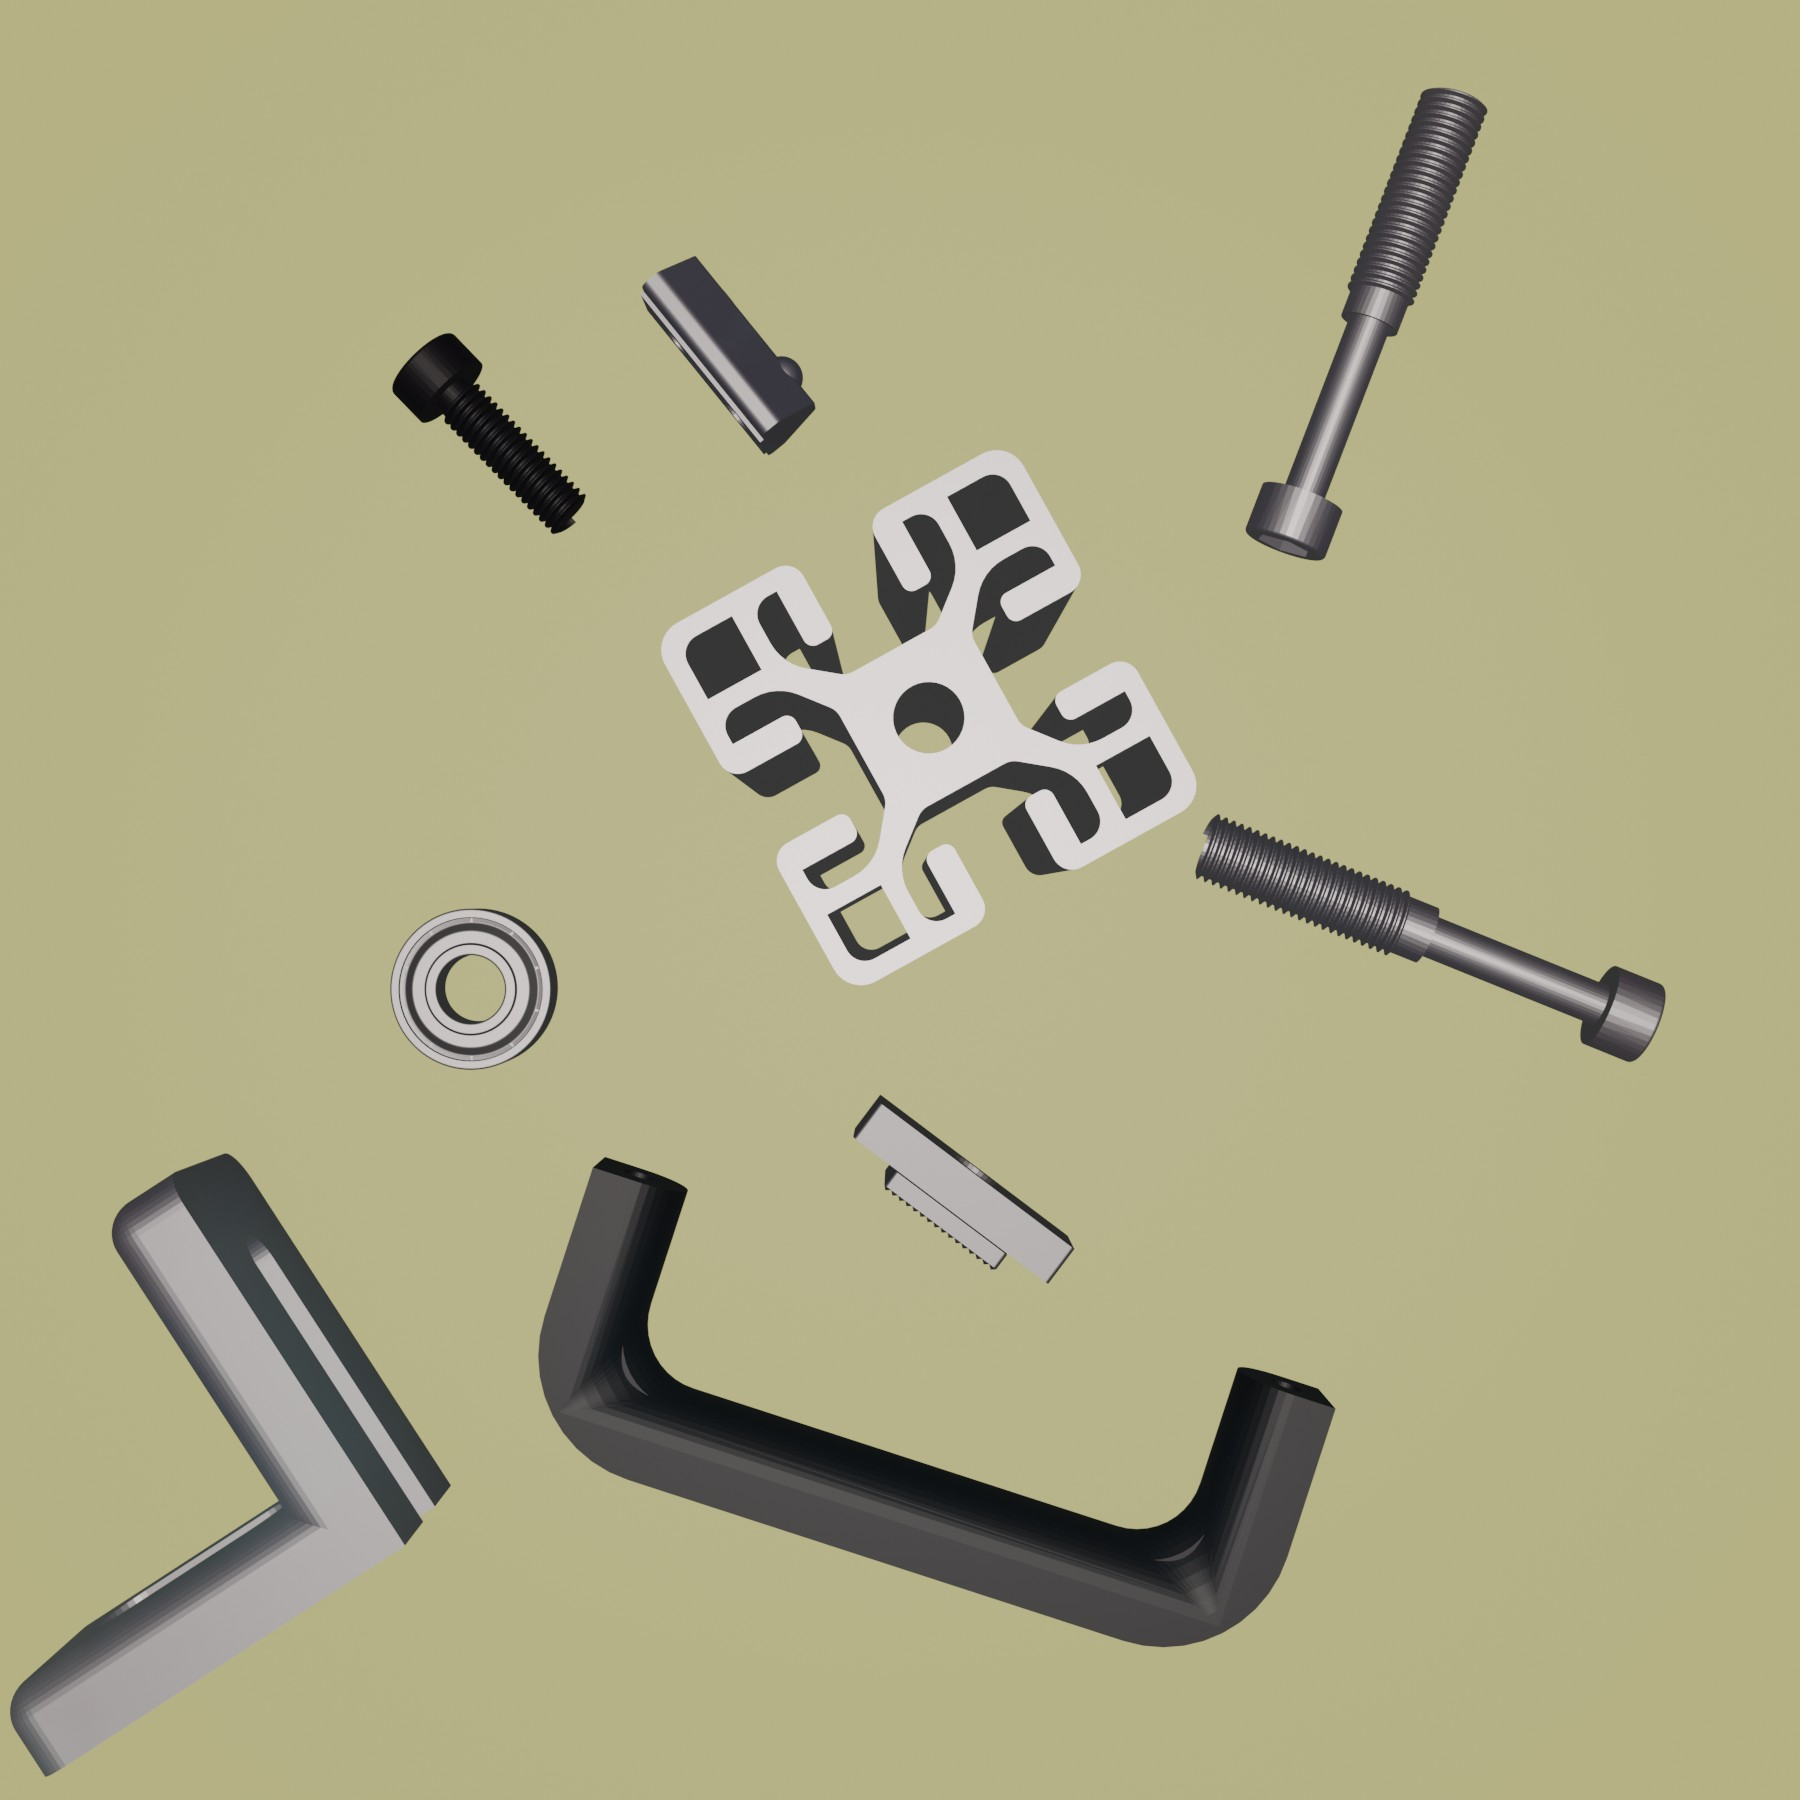Aluminium Extension: (658, 447, 1202, 991)
Ball Bearing: (386, 903, 559, 1075)
Multiwinkel: (8, 1151, 452, 1780)
Pull Handle: (536, 1152, 1338, 1648)
Shoulder Socket Head Cap Screw: (1192, 811, 1666, 1065), (1241, 86, 1492, 564)
Socket Head Cap Screw: (389, 331, 588, 536)
T Nut Square: (847, 1091, 1076, 1287)
T Spring Nut: (638, 252, 819, 458)
